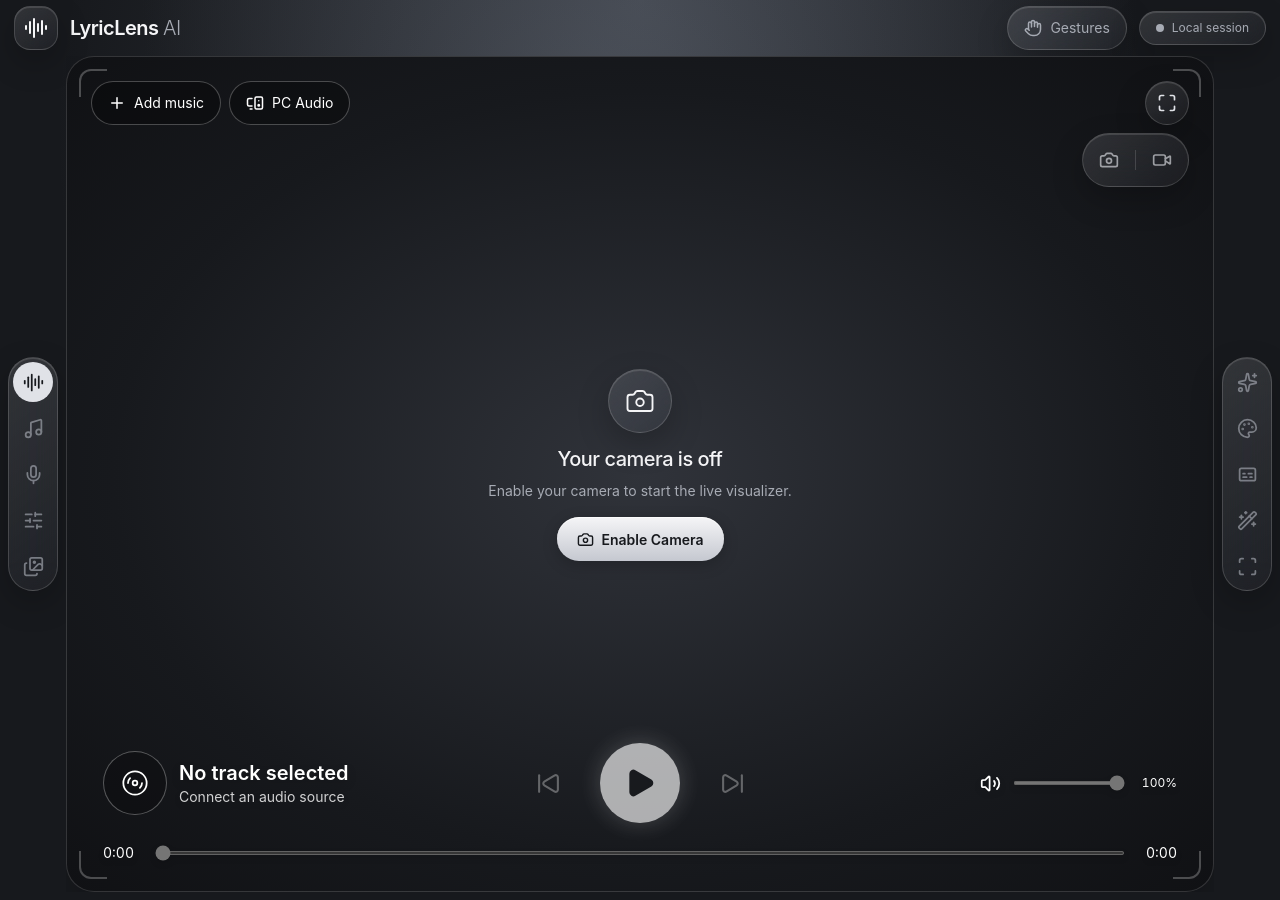
Test: PC audio capture › releases capture resources on unmount
Click the button with aria-label "Connect PC Audio" at (290, 103), box x1=229 y1=81 x2=350 y2=125
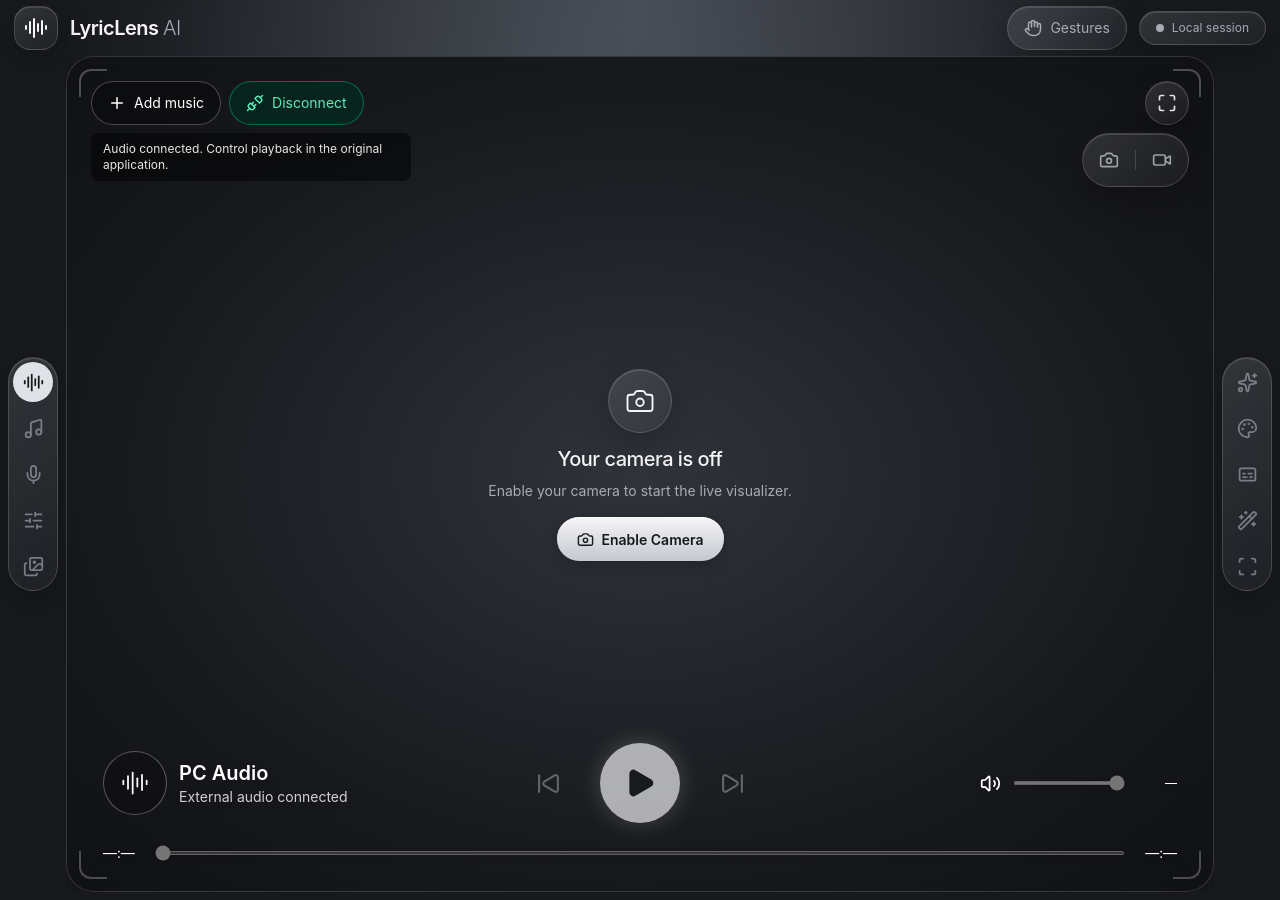
Now the button with aria-label "Disconnect PC Audio" is shown, box x1=229 y1=81 x2=364 y2=125
